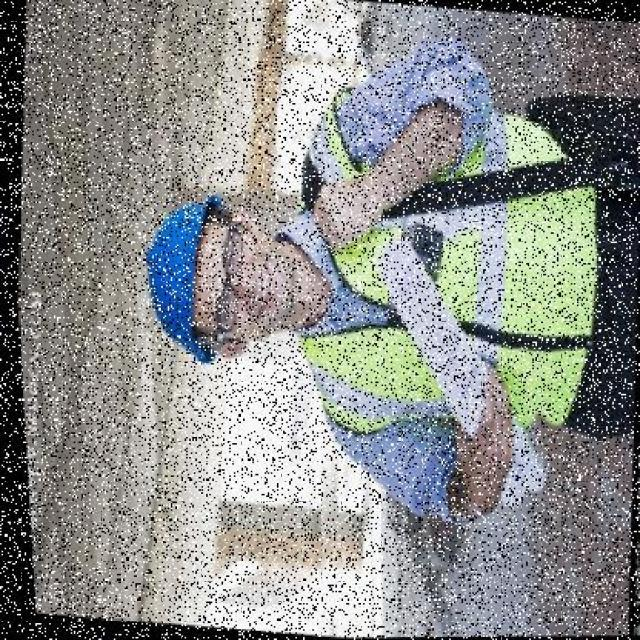helmet: (122, 169, 238, 373)
vest: (276, 51, 632, 462)
